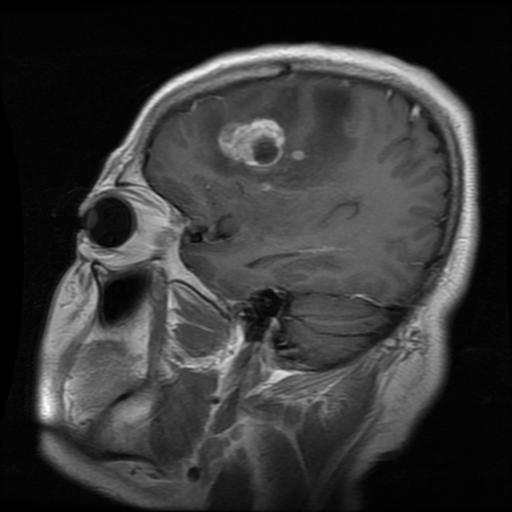Gliomia_tumour: (204, 80, 354, 185)
